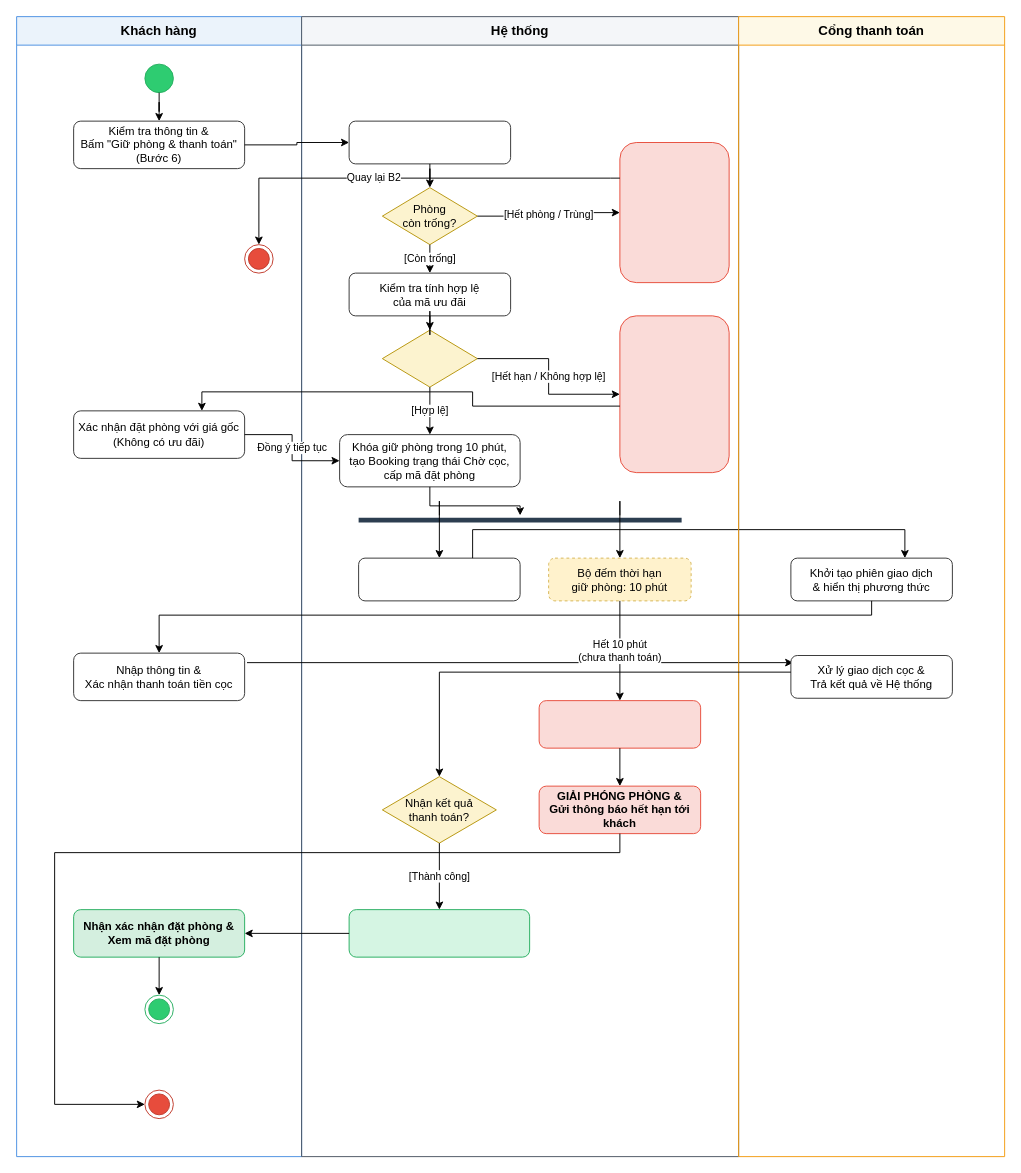
Image size: 1021x1173. Some labels were removed from this diagram. Here are the shapes that lost their labels. From the top down, the centre of each, then its label:
[429,142]: Kiểm tra tính khả dụng của phòng họp
[674,212]: Thông báo phòng đã bị giữ & Làm mới danh sách phòng (A2)
[429,358]: Mã ưu đãi hợp lệ?
[674,394]: Hủy mã ưu đãi, tính lại tiền & Yêu cầu khách xác nhận lại (A3)
[439,579]: Gửi yêu cầu thanh toán cọc sang Cổng thanh toán
[619,724]: Quá 10 phút: Chuyển lượt đặt thành "Hết hạn" (A4)
[439,933]: Dừng Timer, cập nhật Booking thành "Đã xác nhận"
